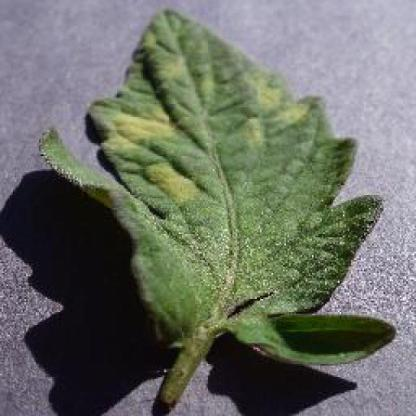Tomato_Leaf_Mold: (43, 10, 382, 313)
